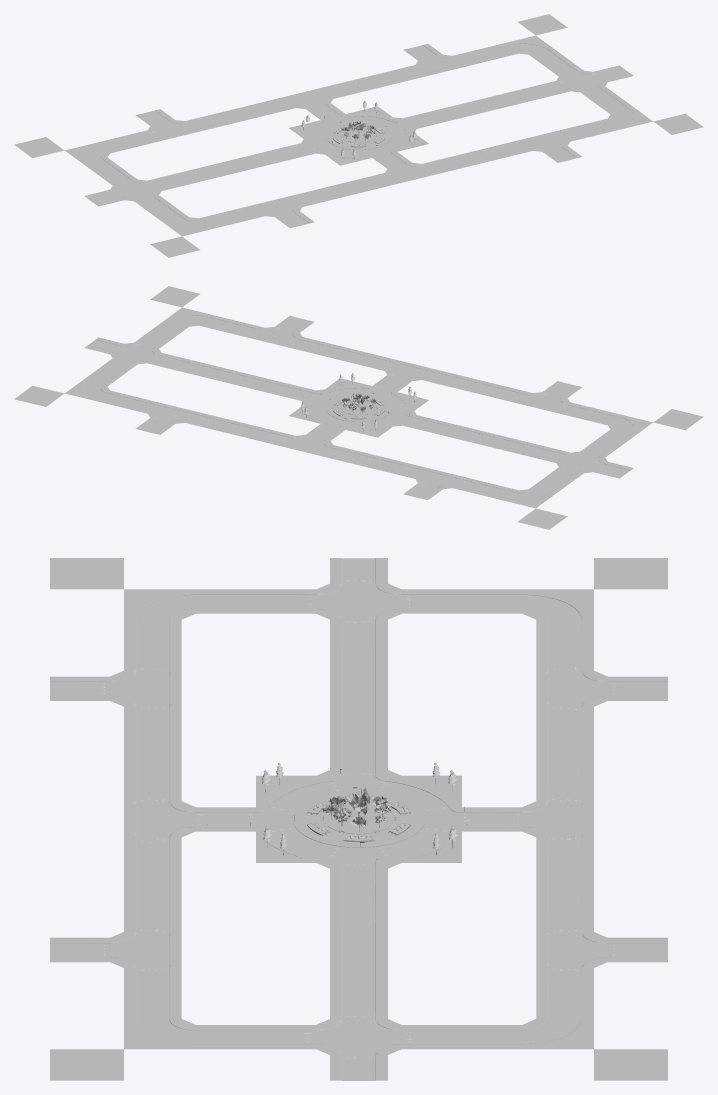
The model's file is Double-Block-04.fbx.
3 views of the same model, one above another, from view 1: azimuth 30°, elevation 25°; view 2: azimuth 150°, elevation 25°; view 3: azimuth 270°, elevation 25° (orthographic). The views are drawn at different scales.
Parts seen in each view (by area): view 1: Double-Block-04, Double-Block-04-Sidewalk, Trees; view 2: Double-Block-04, Double-Block-04-Sidewalk, Trees; view 3: Double-Block-04, Double-Block-04-Sidewalk, Trees.
Boxes of the visible parts, x1,y1,x2,y2 form: Double-Block-04: [14, 14, 703, 257]; Double-Block-04-Sidewalk: [65, 35, 652, 236]; Trees: [301, 101, 416, 159]; Double-Block-04: [14, 286, 703, 529]; Double-Block-04-Sidewalk: [65, 307, 652, 508]; Trees: [301, 373, 416, 431]; Double-Block-04: [50, 558, 667, 1080]; Double-Block-04-Sidewalk: [50, 558, 667, 1080]; Trees: [262, 762, 457, 855].
Size of what is drawn, in the model's own units: 60000 by 1610 by 30000.
